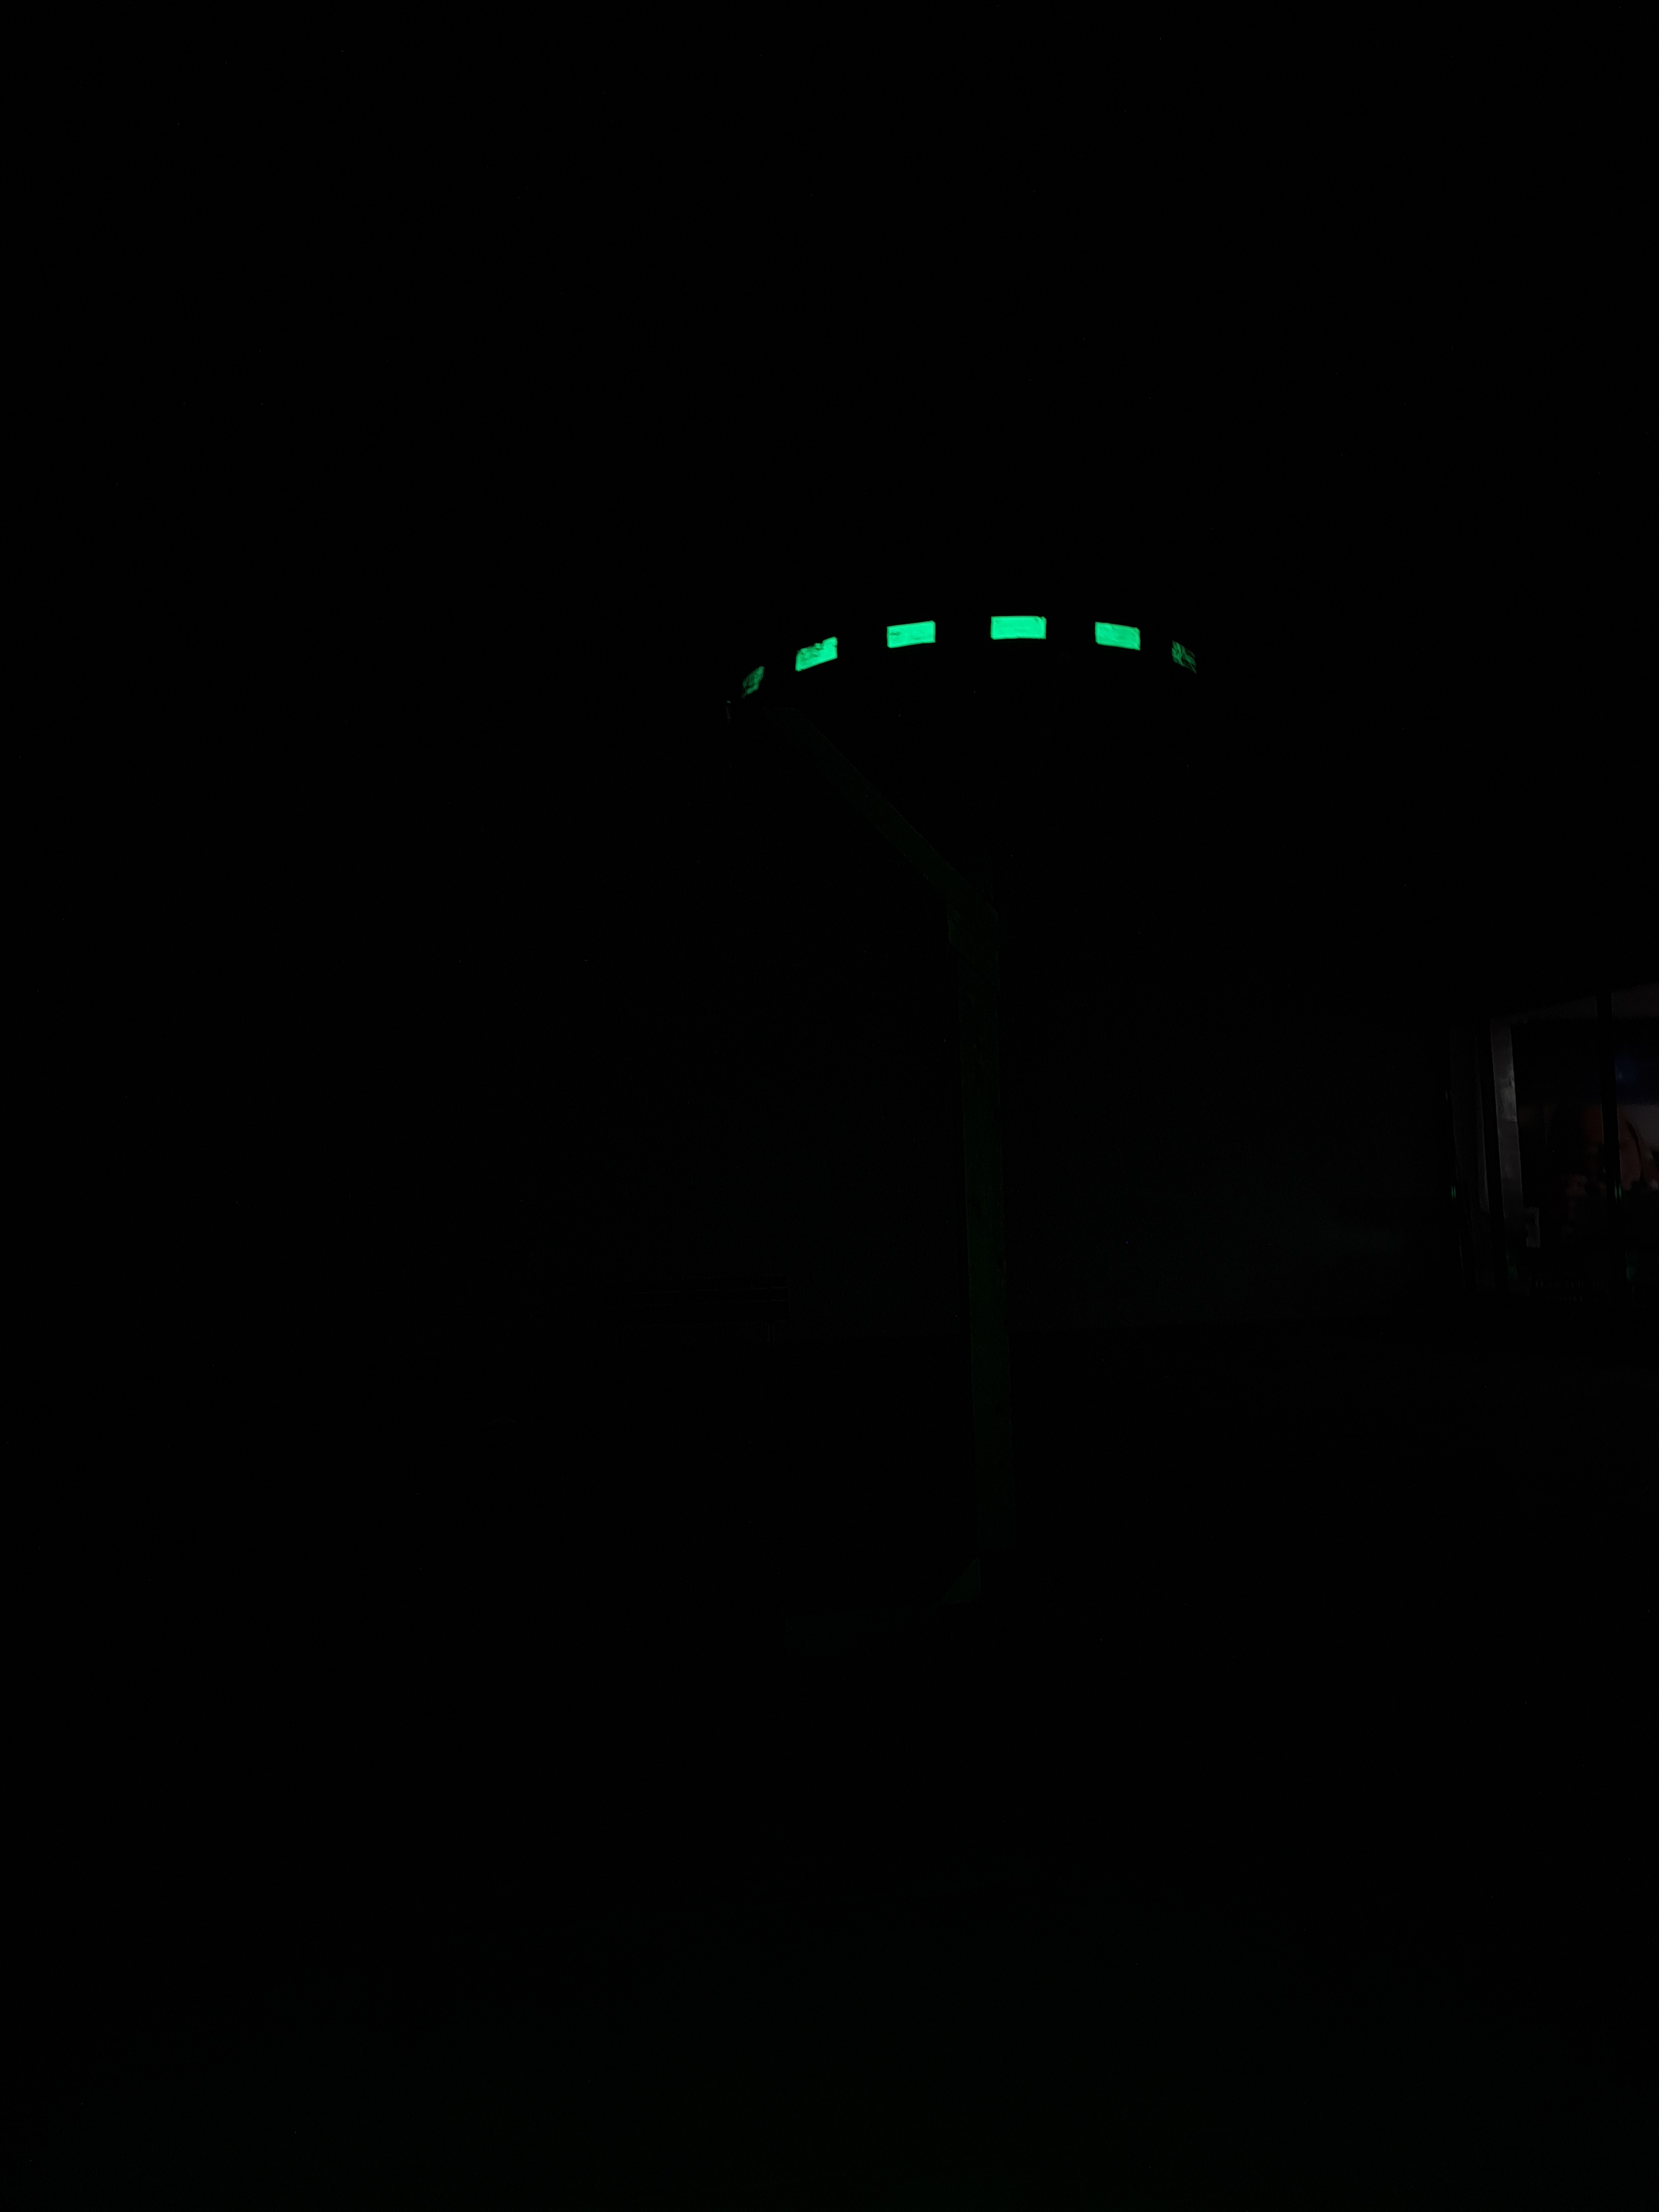hoop: (711, 573, 1241, 721)
